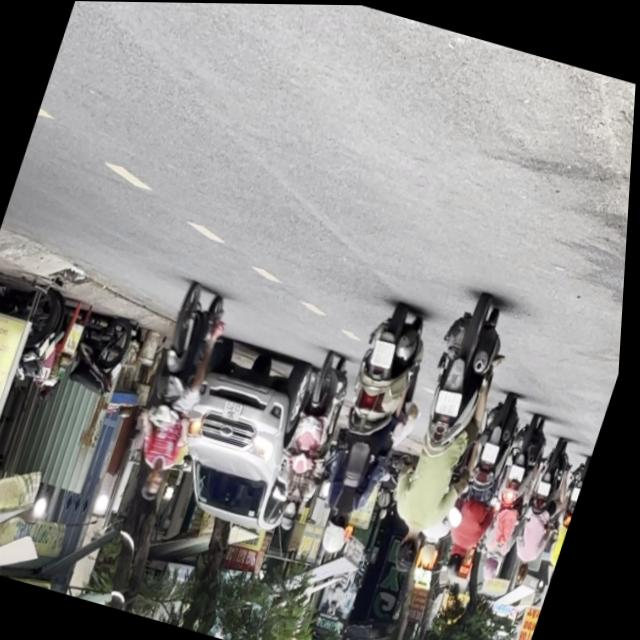helmet: (322, 507, 359, 555), (282, 497, 307, 534)
licenseplate: (373, 286, 528, 582), (302, 295, 448, 565), (115, 277, 242, 510), (263, 345, 365, 539)
motorcyclist: (395, 527, 431, 576), (143, 463, 172, 504)
nohelmet: (437, 387, 467, 416), (373, 338, 400, 368)
